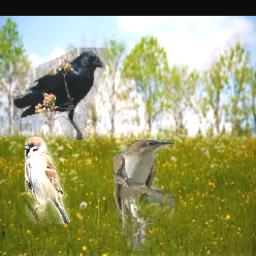Crow: (13, 49, 108, 141)
Cuckoo: (113, 140, 173, 251)
Sparrow: (25, 135, 70, 224)
